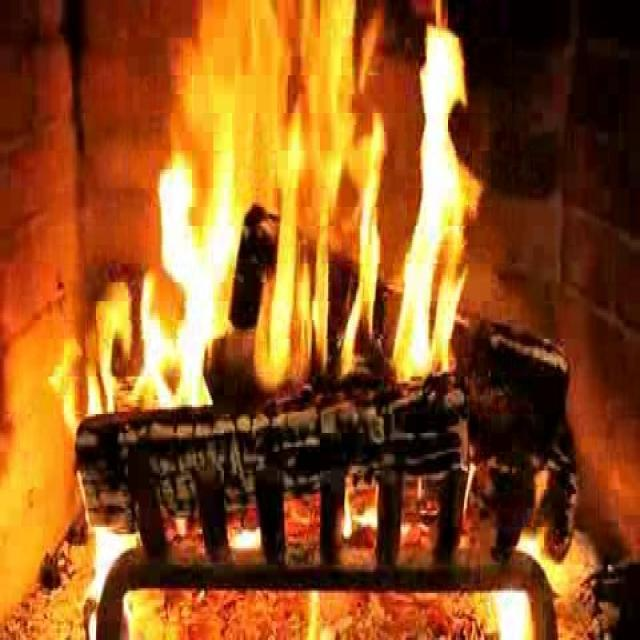Fire: (154, 16, 466, 404)
